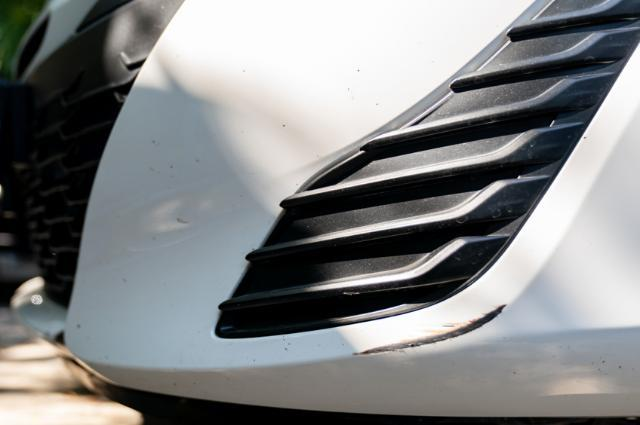Bumper: (287, 286, 640, 398)
